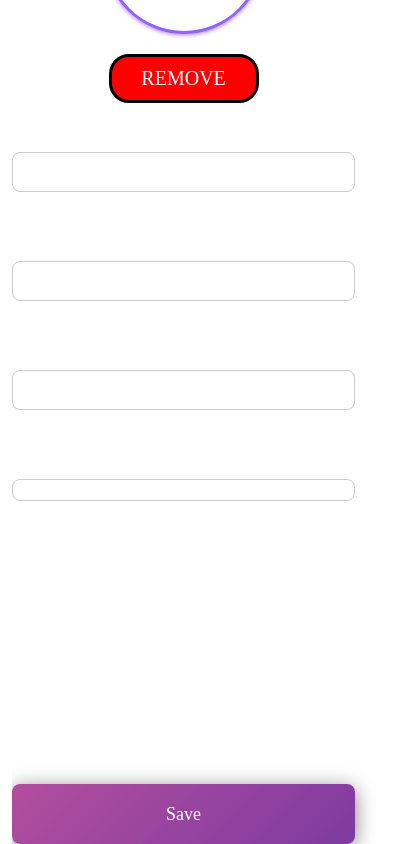
Test: Edit Profile Form › should handle the case when user provides an invalid username
The image size is (402, 844).
(page scrolled)
Click the element with test id "SaveButton".
click(184, 814)  # box [12,784,355,843]
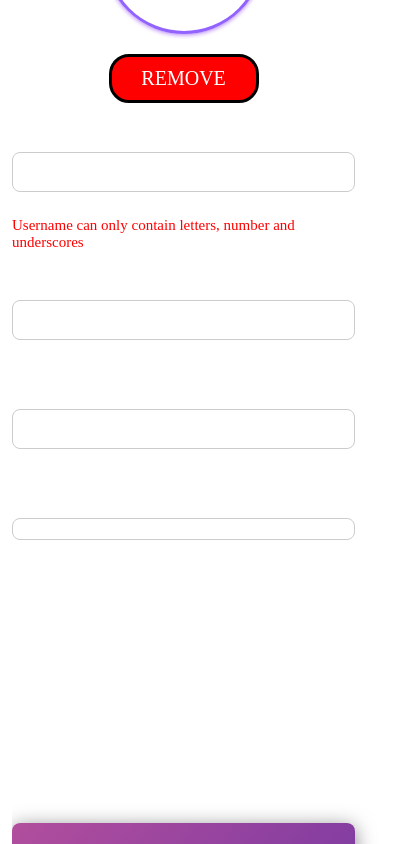
Result: the text "Username can only contain letters, number and underscores" is shown at [12,217,299,250]
